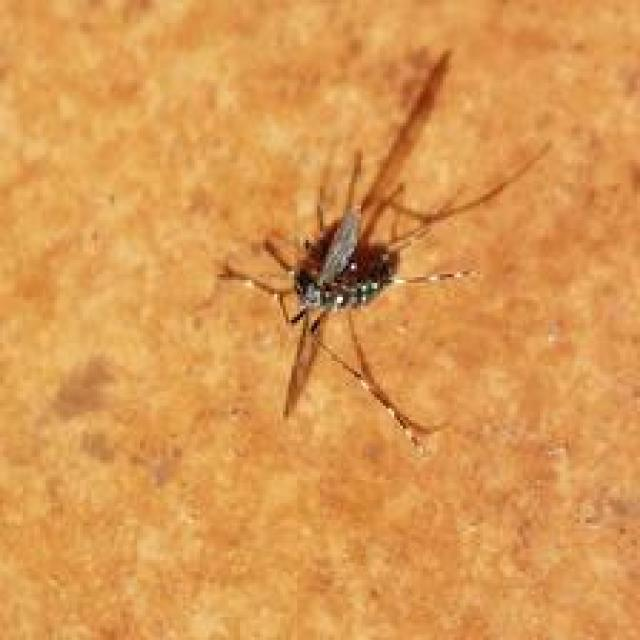Aedes albopictus: (210, 47, 553, 450)
